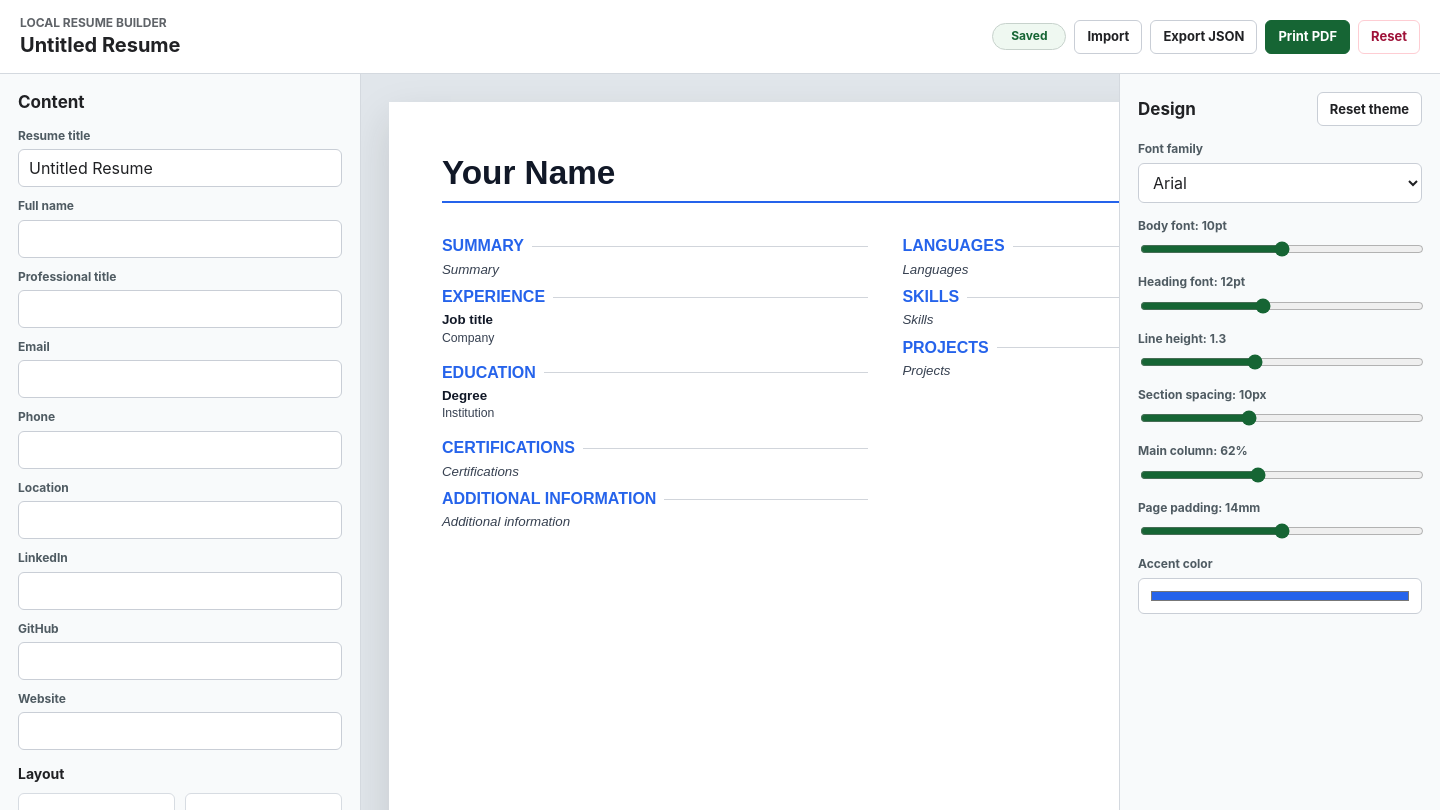
Scenario: AppShell › updates the preview when basics are edited
The image size is (1440, 810).
Clear the field labelled "Resume title" at {"x": 180, "y": 168}, box [18, 149, 342, 187]
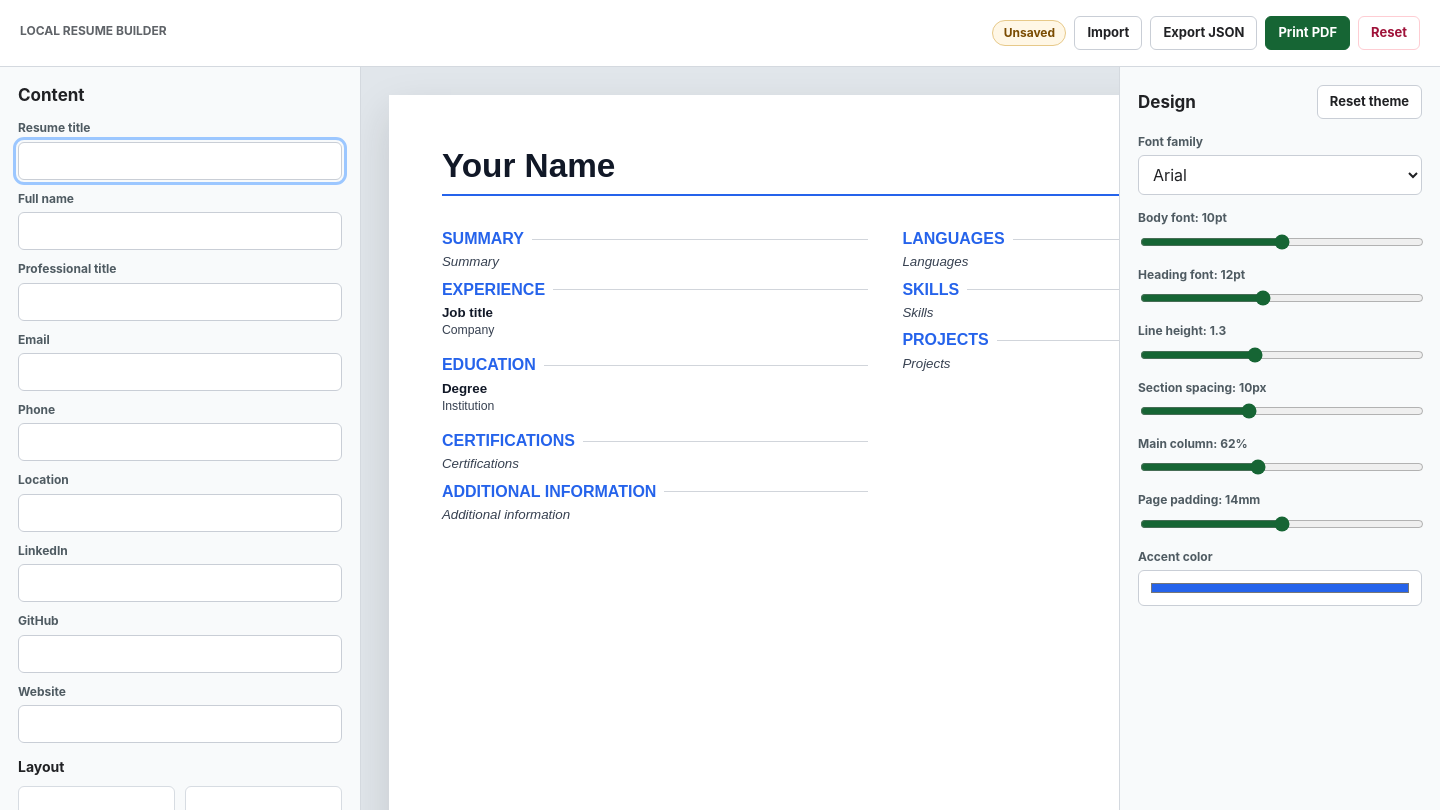
Type "Frontend Resume" into the field labelled "Resume title" at {"x": 180, "y": 161}, box [18, 142, 342, 180]
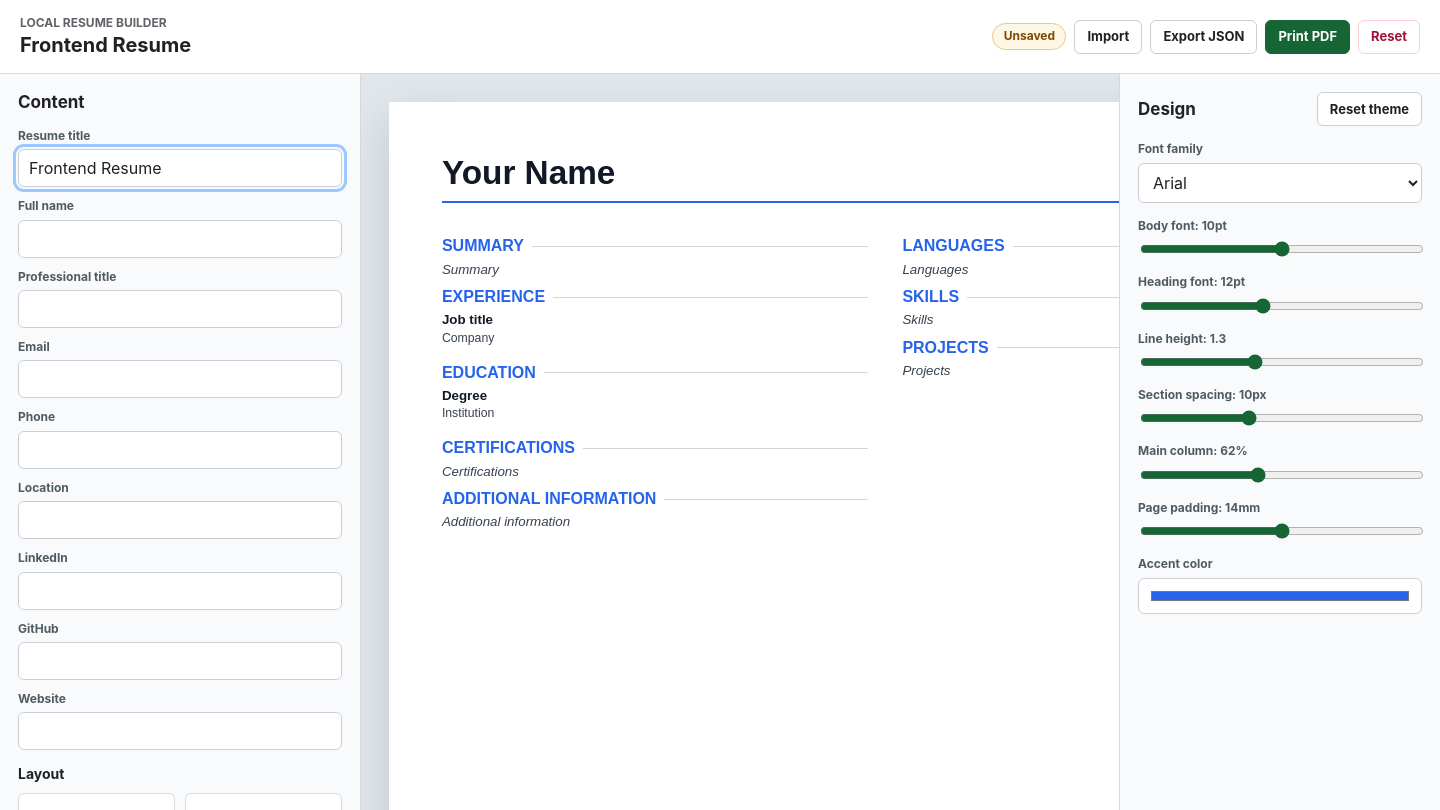
Type "Arvind Kumar" into the field labelled "Full name" at {"x": 180, "y": 239}, box [18, 220, 342, 258]
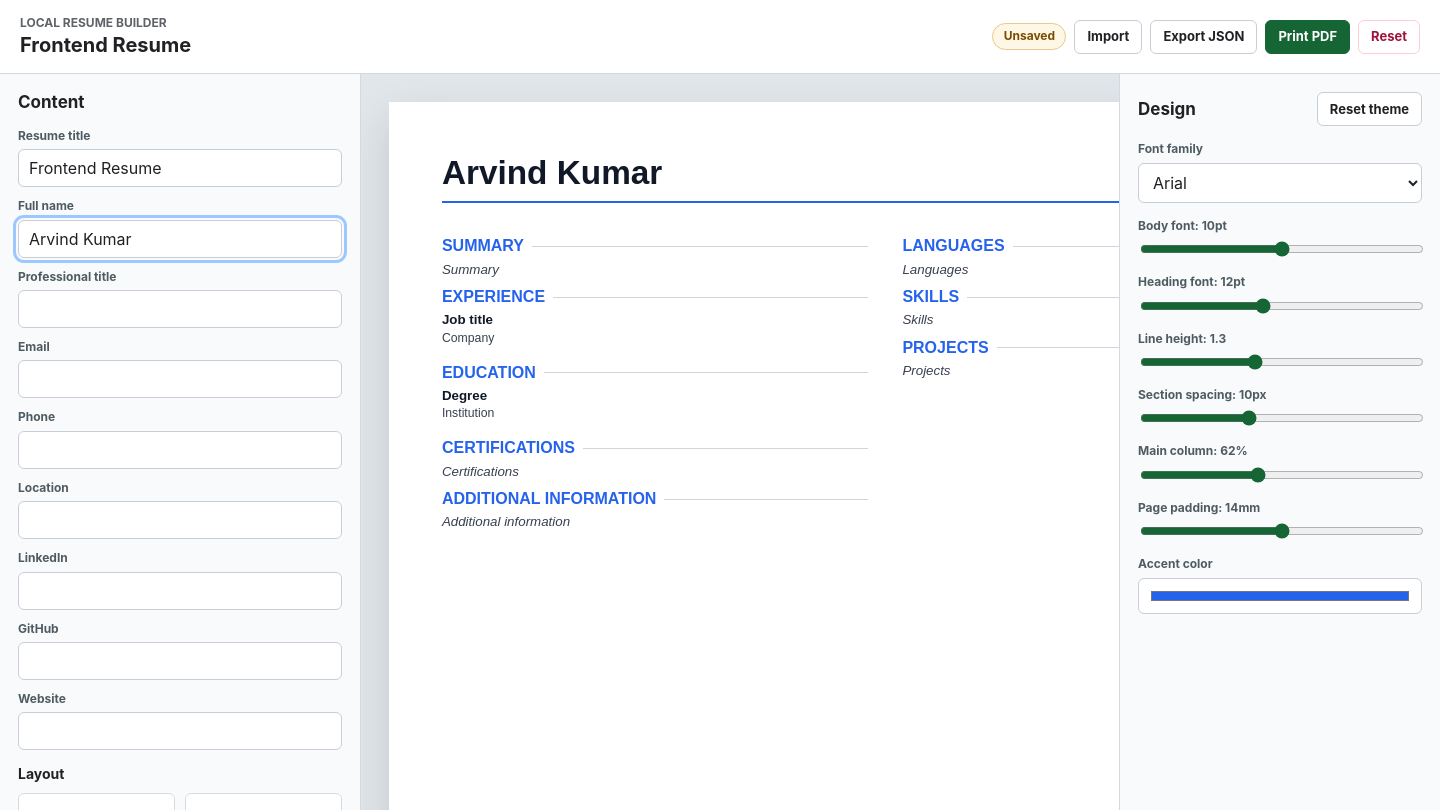
Type "Software Engineer" into the field labelled "Professional title" at {"x": 180, "y": 309}, box [18, 290, 342, 328]
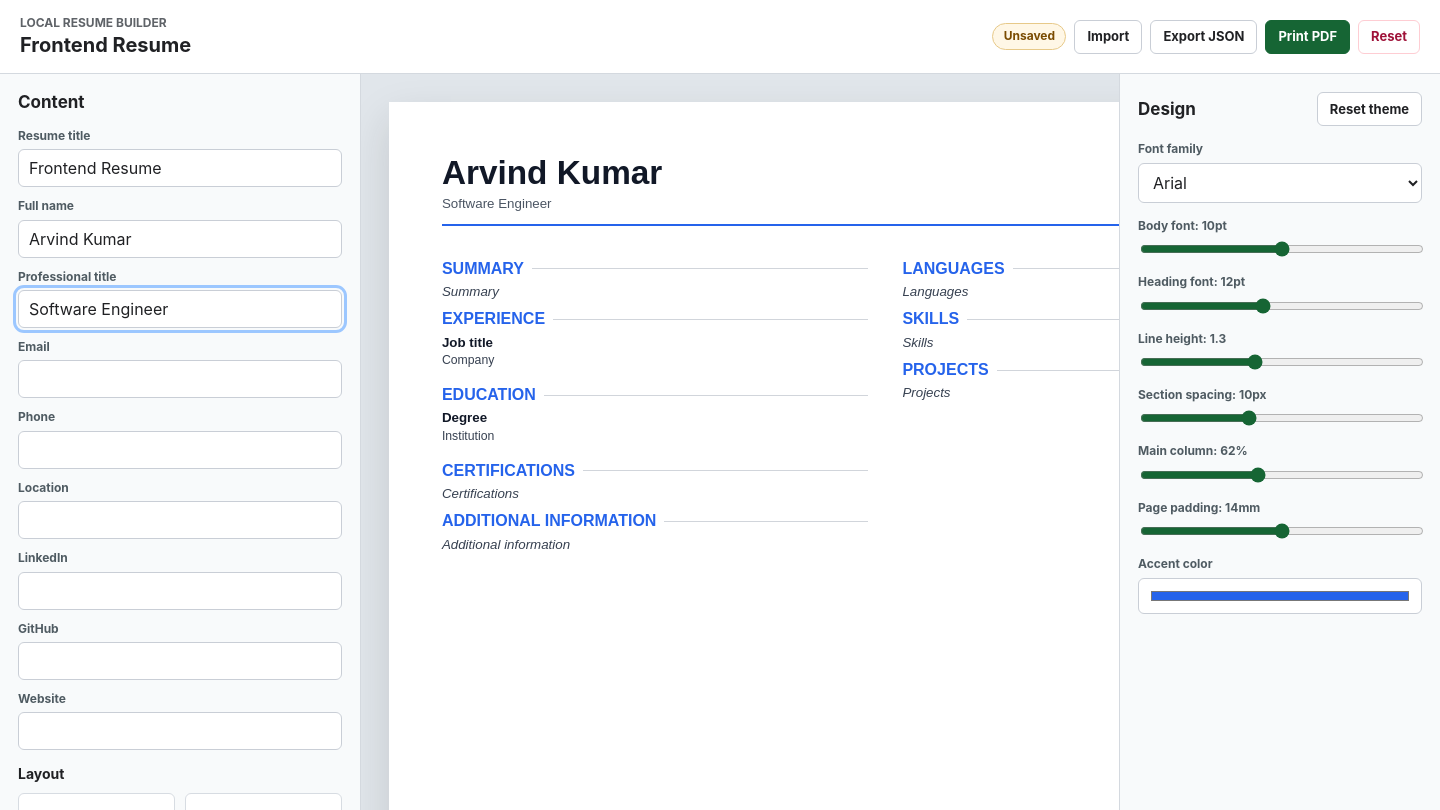
Expected: the heading "Frontend Resume" is shown, [20, 33, 191, 57]
Expected: the heading "Arvind Kumar" is shown, [442, 154, 662, 191]
Expected: the text "Software Engineer" is shown, [442, 196, 552, 211]
